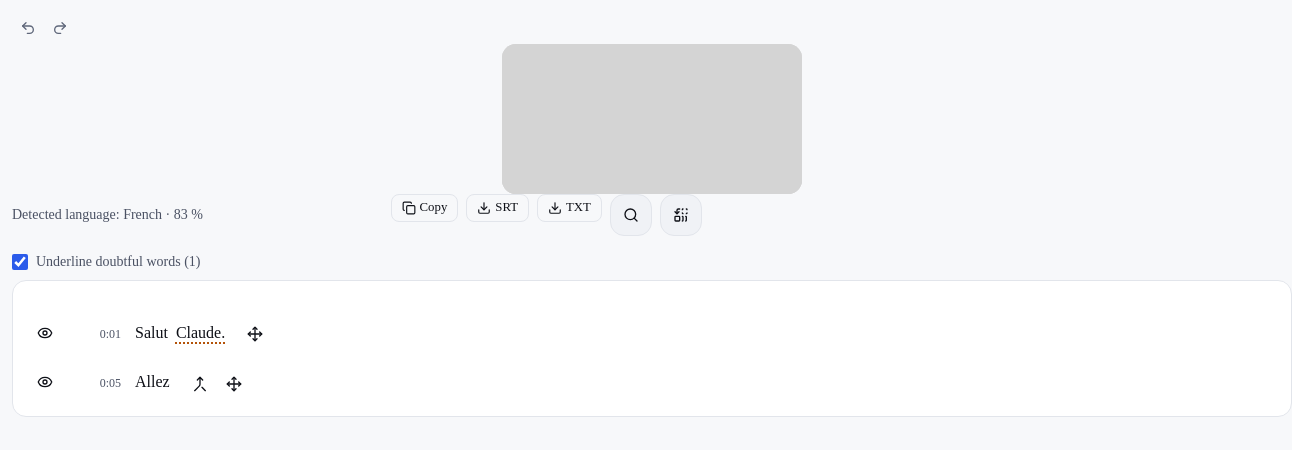
Scenario: TranscriptView › corrects a word in place with Enter
Click the button "Allez": click(152, 382) [133,366,172,398]
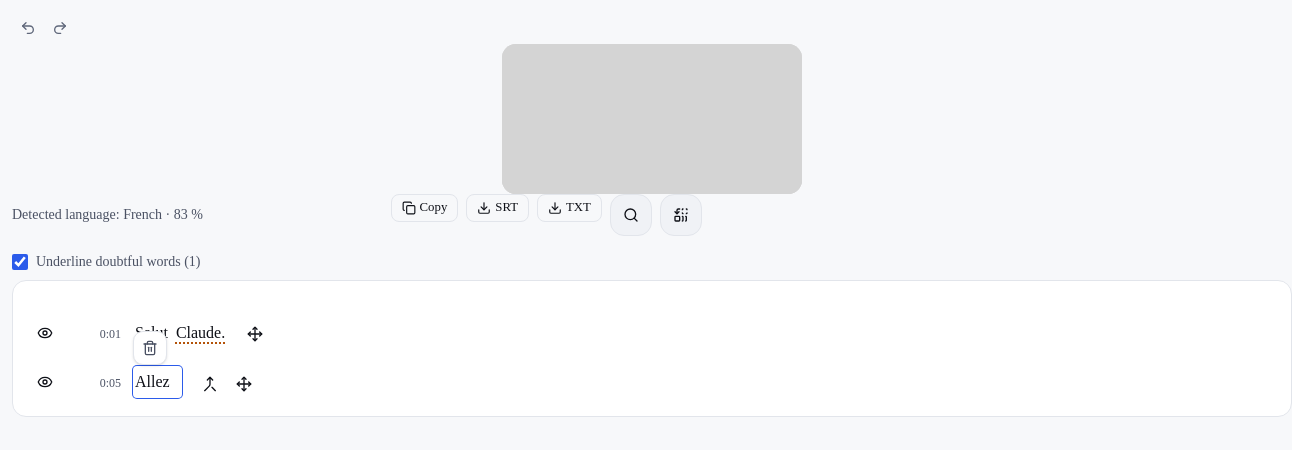
Clear the field named "Word to fix": (157, 382) [133,366,182,398]
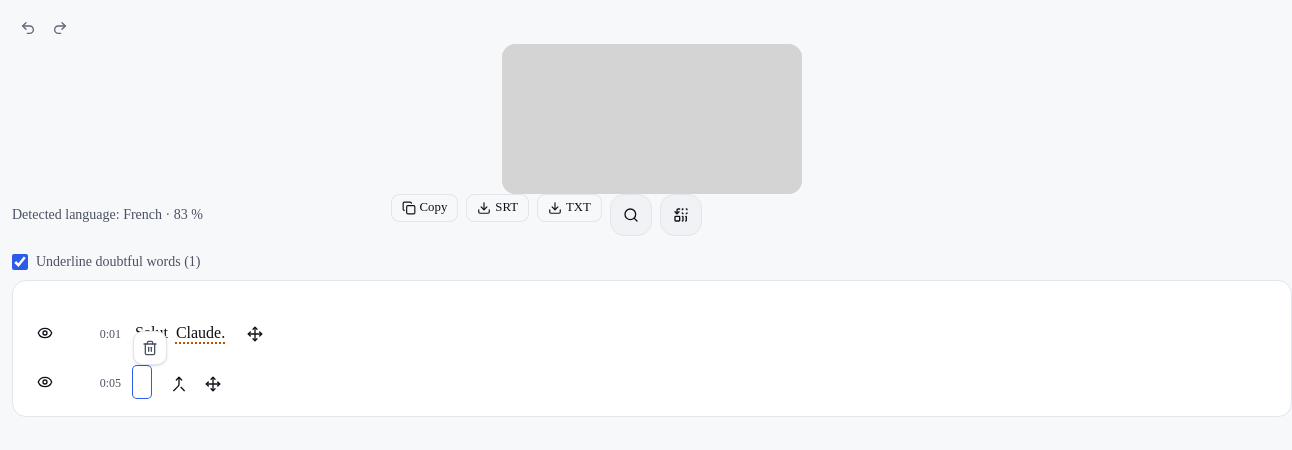
In the field named "Word to fix": (142, 382) [133,366,151,398], type "Allons"
Then press Enter
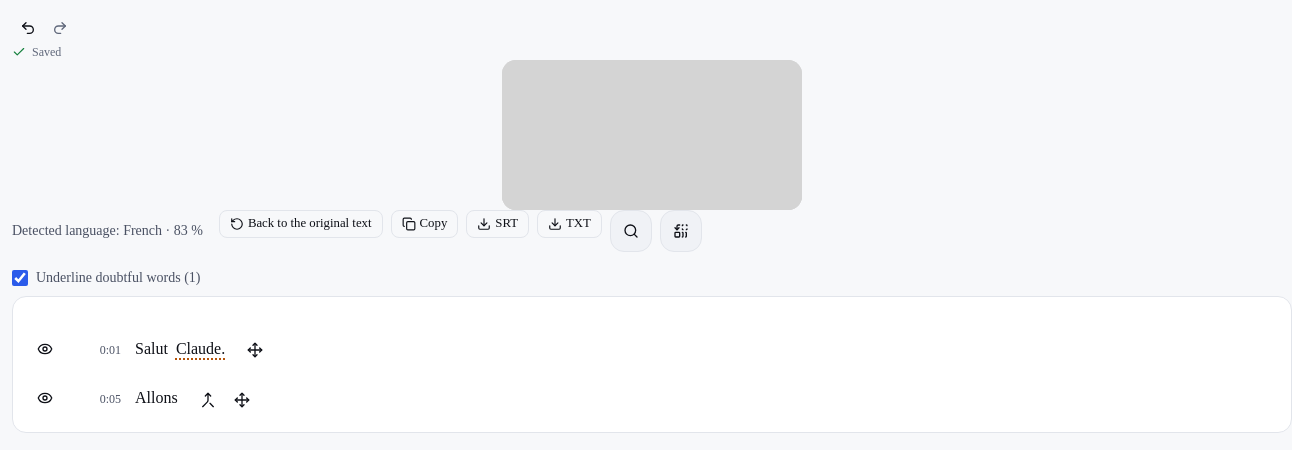
expect the button "Allons" is shown: met, box [133,382,180,414]
expect the text "Saved" is shown: met, box [32,44,61,60]
